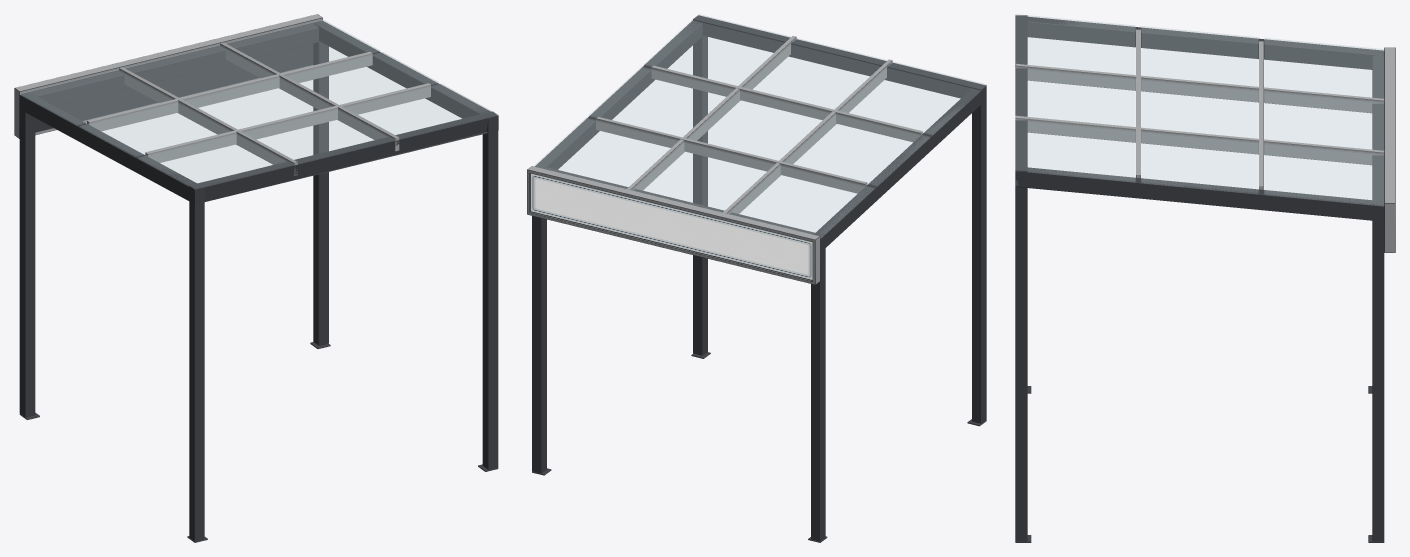
Rendered from gteki_street_canopy_w3000_d3000_posts.glb.
3 renders of one model, left to right at view 1: azimuth 30°, elevation 25°; view 2: azimuth 150°, elevation 25°; view 3: azimuth 270°, elevation 25°, orthographic. The views are drawn at different scales.
Visible parts, largest first — view 1: VIS_glass, VIS_posts, VIS_frame, VIS_ribs, VIS_fascia; view 2: VIS_glass, VIS_posts, VIS_frame, VIS_ribs, VIS_faces, VIS_fascia; view 3: VIS_glass, VIS_frame, VIS_ribs, VIS_posts, VIS_fascia.
Boxes of the visible parts, x1,y1,x2,y2 form: VIS_glass: [20, 20, 497, 188]; VIS_posts: [19, 42, 498, 542]; VIS_frame: [19, 21, 498, 204]; VIS_ribs: [87, 42, 430, 175]; VIS_fascia: [14, 14, 322, 138]; VIS_glass: [534, 14, 986, 238]; VIS_posts: [532, 36, 986, 542]; VIS_frame: [535, 15, 986, 252]; VIS_ribs: [596, 36, 922, 213]; VIS_faces: [531, 173, 812, 279]; VIS_fascia: [527, 166, 820, 284]; VIS_glass: [1015, 14, 1383, 205]; VIS_frame: [1015, 15, 1384, 221]; VIS_ribs: [1015, 29, 1384, 189]; VIS_posts: [1015, 180, 1384, 542]; VIS_fascia: [1384, 47, 1395, 252].
Size of what is drawn, in the model's own units: 3 by 3.36 by 3.09.
5 materials, 1 textured.
